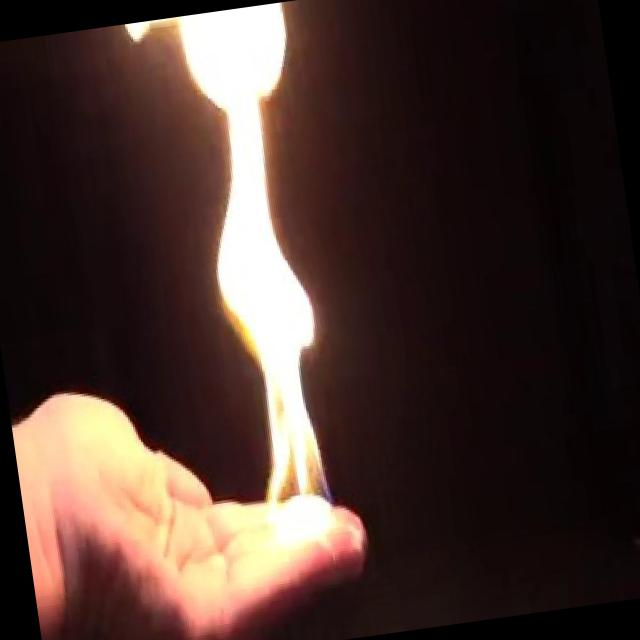Fire: (170, 2, 360, 540)
